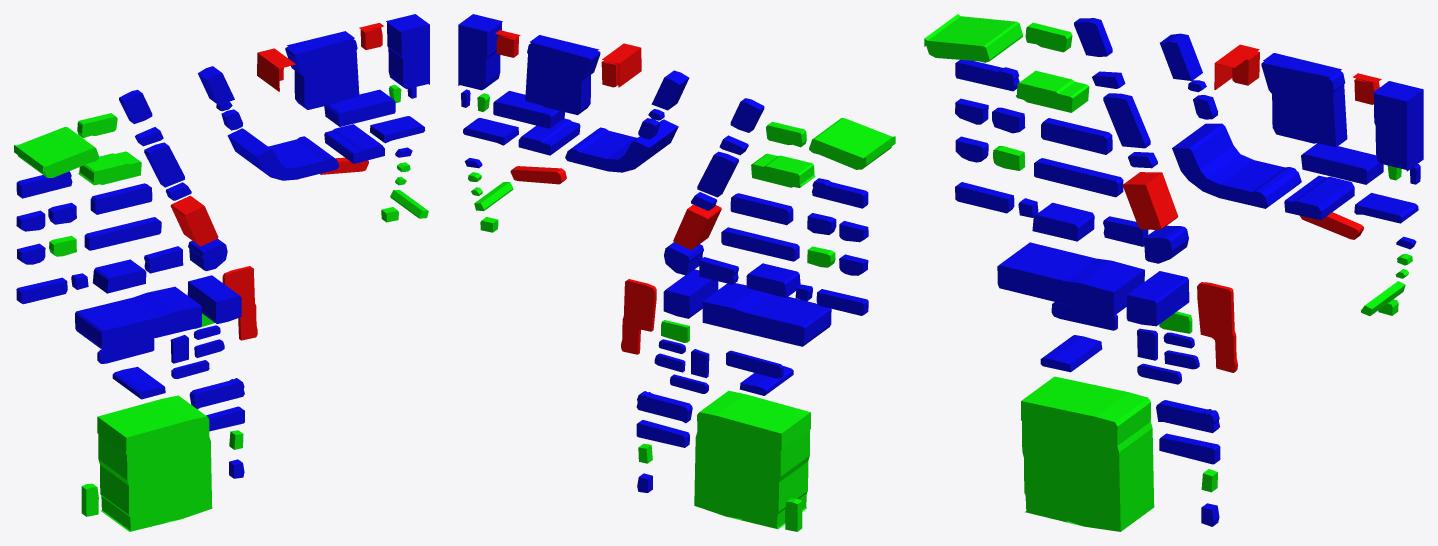
3 views of the same model, side by side, from view 1: azimuth 30°, elevation 25°; view 2: azimuth 150°, elevation 25°; view 3: azimuth 330°, elevation 25° (orthographic). The views are drawn at different scales.
Visible parts, largest first — view 1: building_52, building_43, building_2, building_19, building_4, building_9, building_41, building_17, building_20, building_42, building_13, building_27 (+23 smaller); view 2: building_52, building_43, building_2, building_19, building_4, building_9, building_42, building_41, building_13, building_17, building_31, building_20 (+24 smaller); view 3: building_52, building_43, building_2, building_19, building_4, building_9, building_42, building_41, building_27, building_17, building_13, building_20 (+27 smaller).
Boxes of the visible parts, bbox=[...] form: building_52: bbox=[97, 395, 212, 531]; building_43: bbox=[75, 286, 201, 350]; building_2: bbox=[285, 31, 359, 109]; building_19: bbox=[227, 128, 339, 180]; building_4: bbox=[386, 14, 429, 88]; building_9: bbox=[14, 127, 99, 177]; building_41: bbox=[187, 275, 241, 323]; building_17: bbox=[324, 89, 395, 126]; building_20: bbox=[324, 124, 384, 163]; building_42: bbox=[222, 266, 257, 340]; building_13: bbox=[78, 151, 141, 185]; building_27: bbox=[170, 195, 218, 246]; building_52: bbox=[694, 390, 810, 529]; building_43: bbox=[702, 283, 831, 346]; building_2: bbox=[525, 35, 600, 115]; building_19: bbox=[565, 119, 678, 172]; building_4: bbox=[458, 14, 502, 90]; building_9: bbox=[809, 118, 895, 169]; building_42: bbox=[621, 279, 656, 354]; building_41: bbox=[663, 269, 718, 318]; building_13: bbox=[751, 153, 815, 187]; building_17: bbox=[493, 91, 564, 128]; building_31: bbox=[721, 227, 799, 261]; building_20: bbox=[518, 118, 580, 155]; building_52: bbox=[1021, 376, 1154, 531]; building_43: bbox=[997, 242, 1144, 316]; building_2: bbox=[1261, 53, 1347, 147]; building_19: bbox=[1172, 123, 1301, 208]; building_4: bbox=[1373, 81, 1423, 171]; building_9: bbox=[924, 14, 1022, 62]; building_42: bbox=[1197, 282, 1237, 372]; building_41: bbox=[1126, 271, 1189, 326]; building_27: bbox=[1123, 172, 1178, 229]; building_17: bbox=[1301, 143, 1383, 184]; building_13: bbox=[1016, 70, 1089, 112]; building_20: bbox=[1284, 175, 1354, 220].
Size of the model in its own units: 2047 by 2047 by 255.
